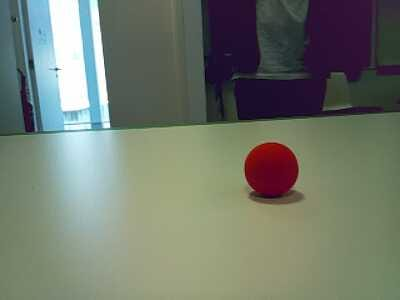bola_cerca: (242, 141, 300, 197)
